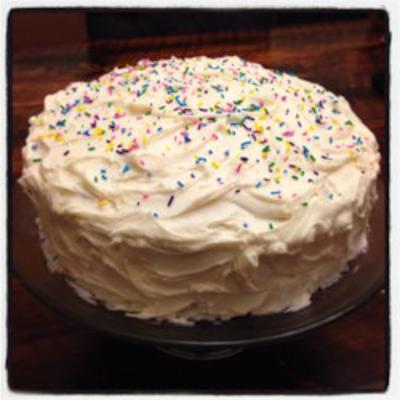cake: (25, 47, 381, 328)
